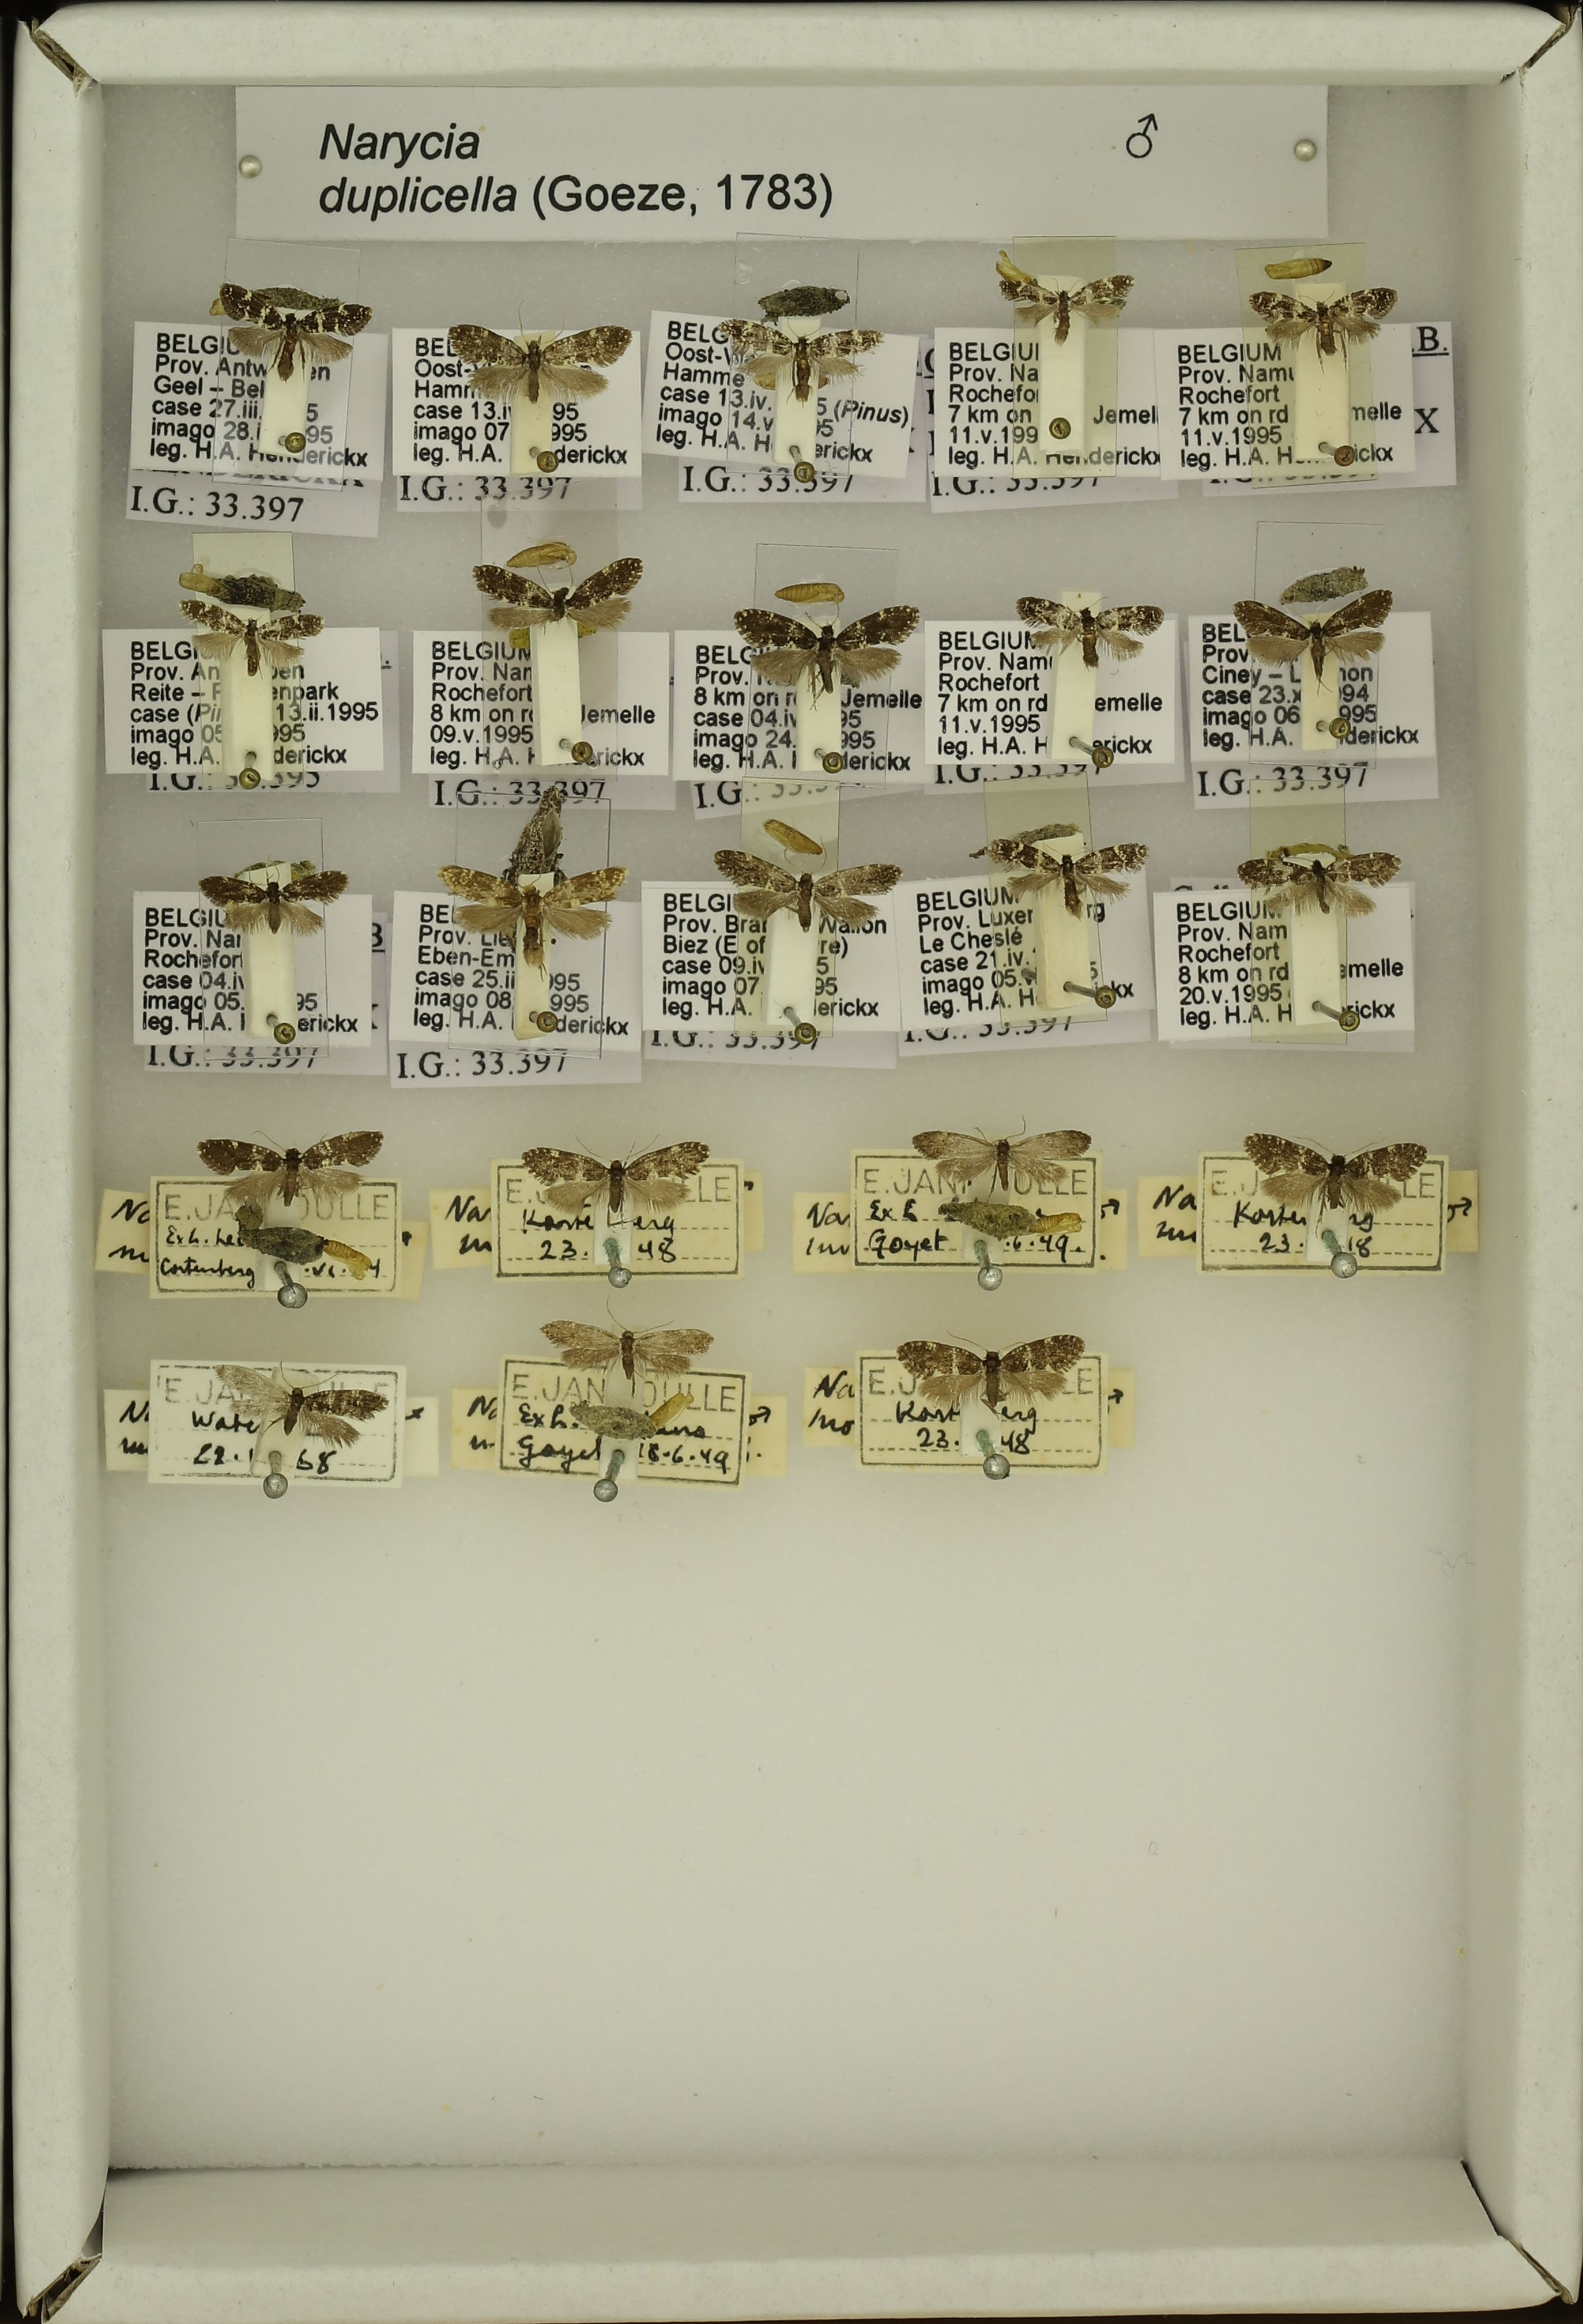insect: (722, 587, 914, 697), (1219, 582, 1393, 689), (466, 552, 649, 651), (198, 279, 379, 380), (895, 1325, 1089, 1416), (1240, 1125, 1435, 1215), (188, 1124, 386, 1212), (428, 859, 619, 948), (211, 1359, 393, 1450), (519, 1131, 700, 1220), (448, 316, 635, 401), (1228, 840, 1408, 922), (709, 847, 907, 921), (902, 1112, 1106, 1183), (1244, 277, 1410, 361), (985, 827, 1162, 904), (535, 1305, 718, 1379), (716, 321, 888, 397), (1015, 592, 1174, 668), (995, 256, 1136, 341), (494, 782, 581, 916), (189, 869, 341, 943), (179, 596, 324, 668), (228, 1219, 374, 1274), (932, 1192, 1087, 1244), (172, 558, 316, 610), (566, 1387, 701, 1442), (205, 280, 354, 326), (1274, 559, 1375, 616), (753, 275, 851, 326), (755, 813, 834, 865), (504, 536, 581, 580), (1264, 250, 1336, 289), (778, 572, 852, 605)
